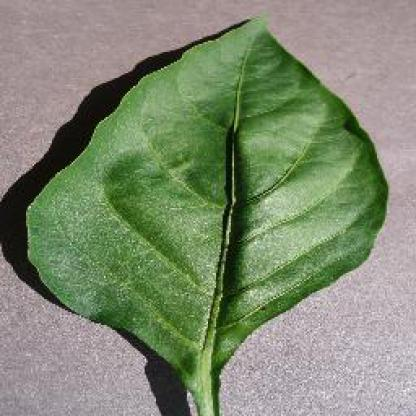good leaf: (5, 10, 402, 393)
